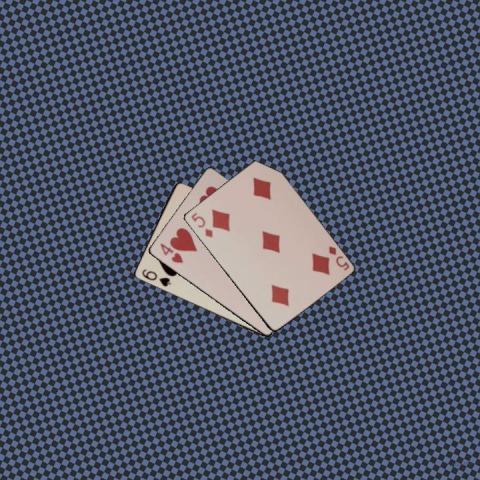4h: (156, 240, 184, 265)
5d: (188, 209, 214, 239), (325, 243, 351, 272)
6s: (139, 266, 172, 288)
